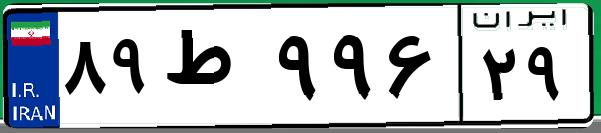2: (475, 38, 525, 113)
6: (385, 28, 445, 110)
8: (57, 26, 110, 100)
9: (270, 28, 330, 110), (330, 28, 385, 110), (525, 38, 570, 115), (110, 28, 158, 98)
ط: (158, 20, 270, 120)
